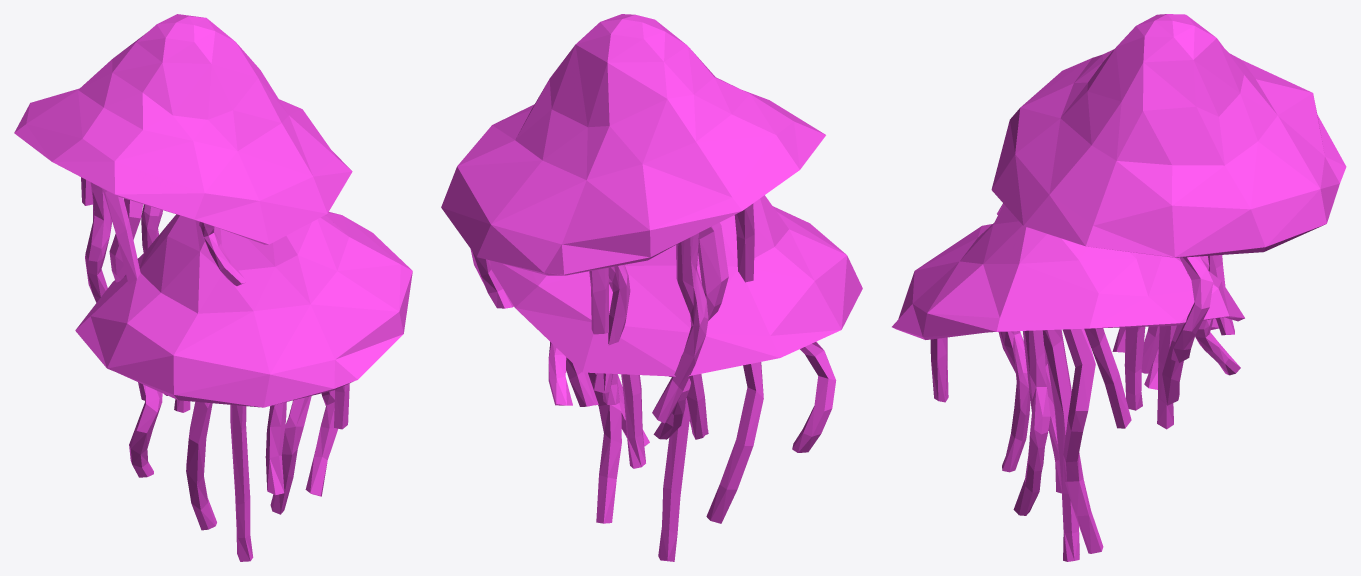
The model's file is SM_Mushroom_Jellyfish_Medium_Cluster_A_Fantasy.fbx.
The picture shows the model from 3 angles, left to right: view 1: azimuth 30°, elevation 25°; view 2: azimuth 150°, elevation 25°; view 3: azimuth 270°, elevation 25°; orthographic projection. The views are drawn at different scales.
Parts seen in each view (by area): view 1: SM_Mushroom_Jellyfish_Medium_Cluster_A_Fantasy; view 2: SM_Mushroom_Jellyfish_Medium_Cluster_A_Fantasy; view 3: SM_Mushroom_Jellyfish_Medium_Cluster_A_Fantasy.
Boxes of the visible parts, x1,y1,x2,y2 form: SM_Mushroom_Jellyfish_Medium_Cluster_A_Fantasy: (14, 14, 412, 561); SM_Mushroom_Jellyfish_Medium_Cluster_A_Fantasy: (441, 14, 862, 561); SM_Mushroom_Jellyfish_Medium_Cluster_A_Fantasy: (892, 14, 1346, 561).
Bounding box in the file's own units: 0.7227 × 1.21 × 0.9335.
